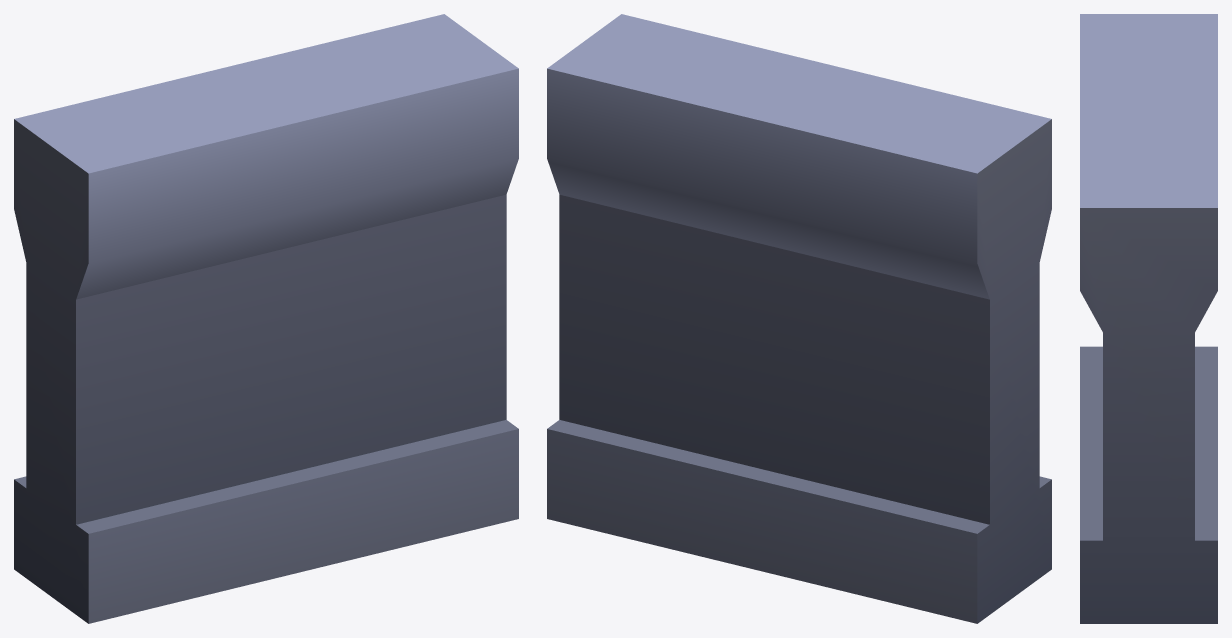
The model's file is wall.glb.
The picture shows the model from 3 angles, left to right: view 1: azimuth 30°, elevation 25°; view 2: azimuth 150°, elevation 25°; view 3: azimuth 270°, elevation 25°; orthographic projection. The views are drawn at different scales.
Visible parts, largest first — view 1: wall; view 2: wall; view 3: wall.
Part boxes in pixels (x1=…): wall: x1=14, y1=14, x2=518, y2=623; wall: x1=547, y1=14, x2=1051, y2=623; wall: x1=1080, y1=14, x2=1217, y2=623.
Bounding box in the file's own units: 1 × 1 × 0.3.
